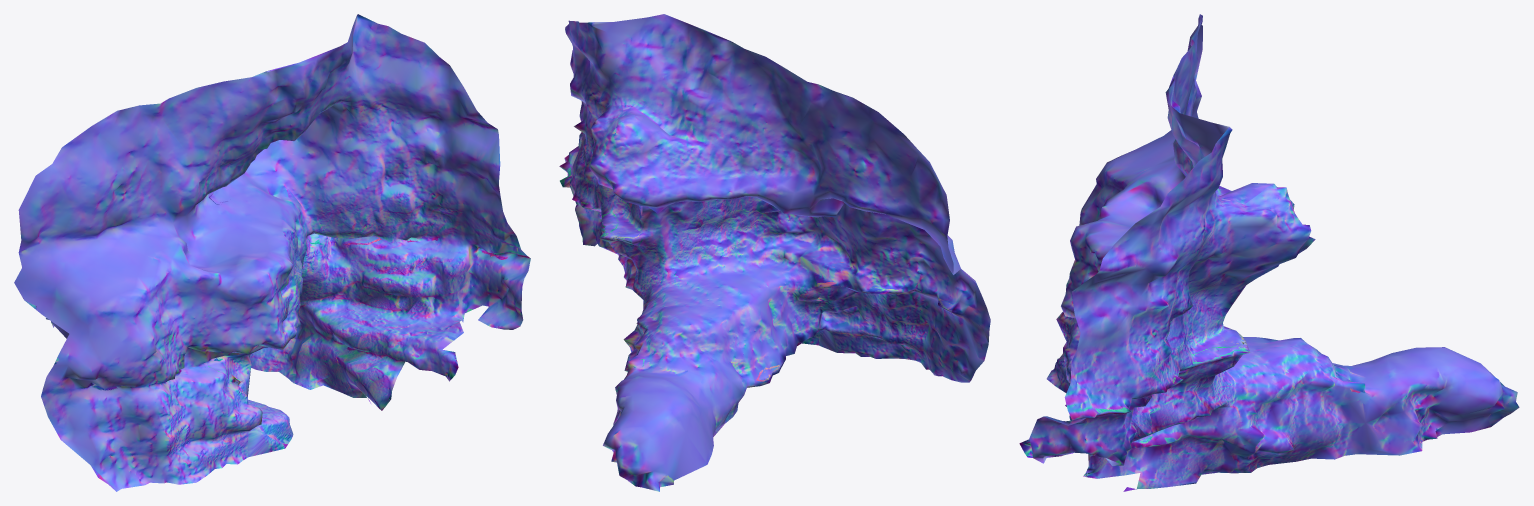
The model's file is RockFormation009 Moss Variant.fbx.
The picture shows the model from 3 angles, left to right: view 1: azimuth 30°, elevation 25°; view 2: azimuth 150°, elevation 25°; view 3: azimuth 270°, elevation 25°; orthographic projection. The views are drawn at different scales.
Parts seen in each view (by area): view 1: RF09_LOD0; view 2: RF09_LOD0; view 3: RF09_LOD0.
Part boxes in pixels (box(x1,y1,x2,y2)): RF09_LOD0: box(14, 14, 530, 491); RF09_LOD0: box(559, 14, 990, 491); RF09_LOD0: box(1019, 14, 1519, 491).
Size of the model in its own units: 3581 by 2569 by 3036.
